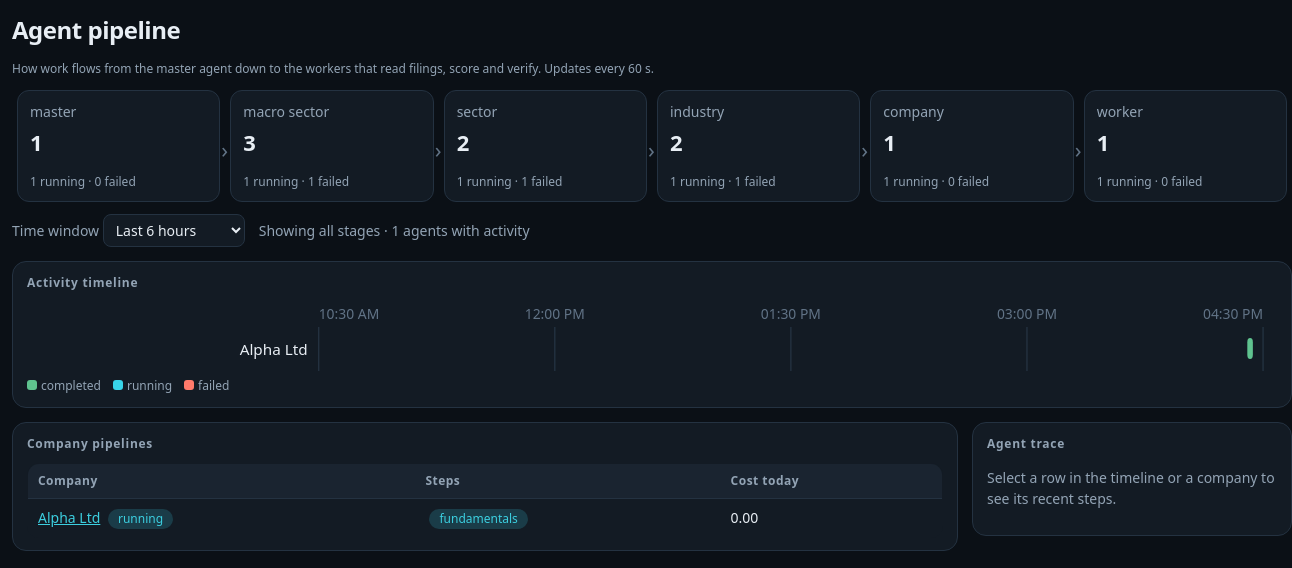
Scenario: pipeline dashboard › filters the timeline to one stage and explains an empty window
The width and height of the screenshot is (1292, 568).
Click the button with aria-label "master stage" at coordinates (119, 146), box x1=17 y1=90 x2=220 y2=202
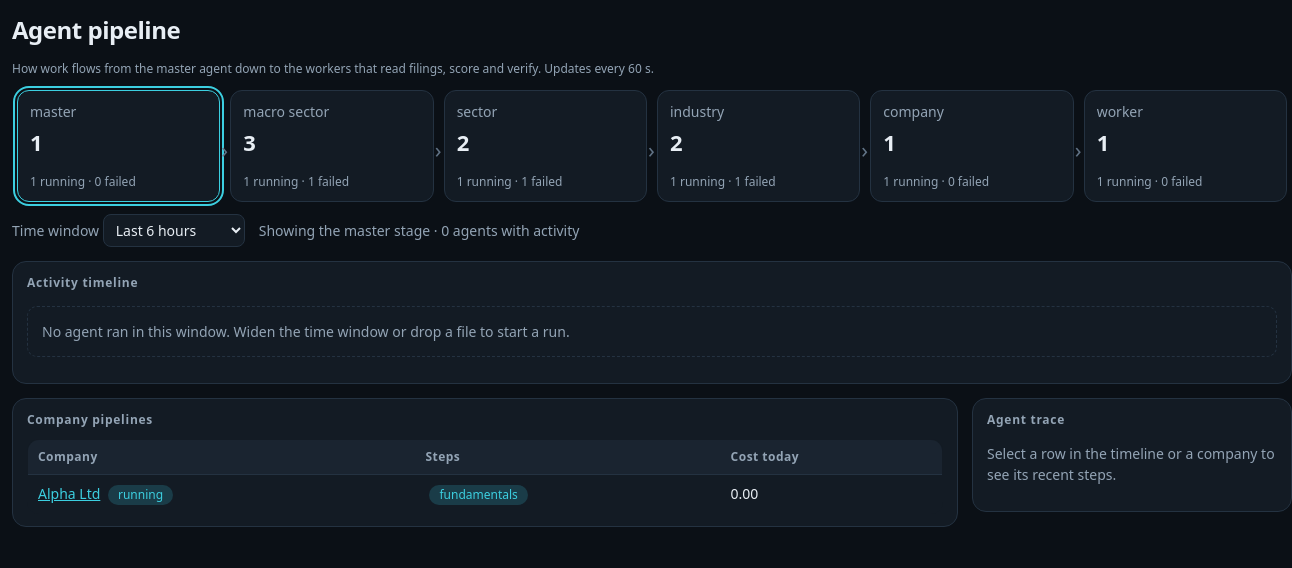
Expected: the text "No agent ran in this window" is shown, x1=42 y1=322 x2=570 y2=341
